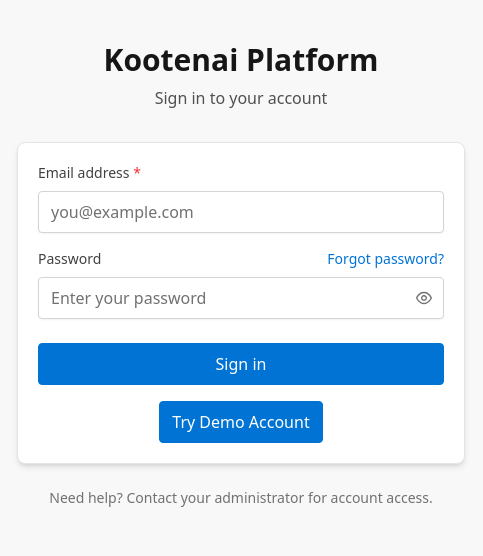
it: LoginView › login flow › should display error message on login failure
Type "user@example.com" into the field with id "email" at (241, 212), box [38,191,444,233]
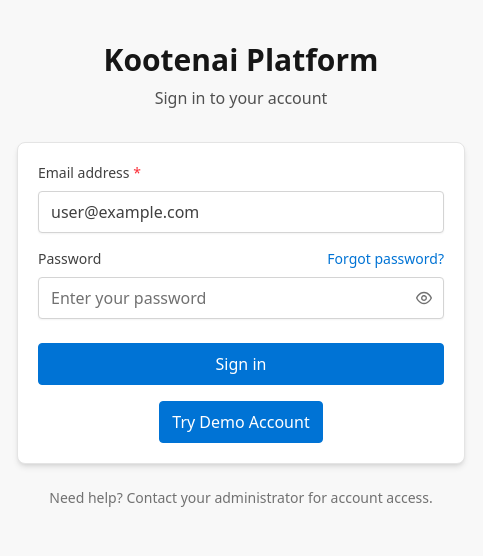
Submit the form, box [38,163,444,443]
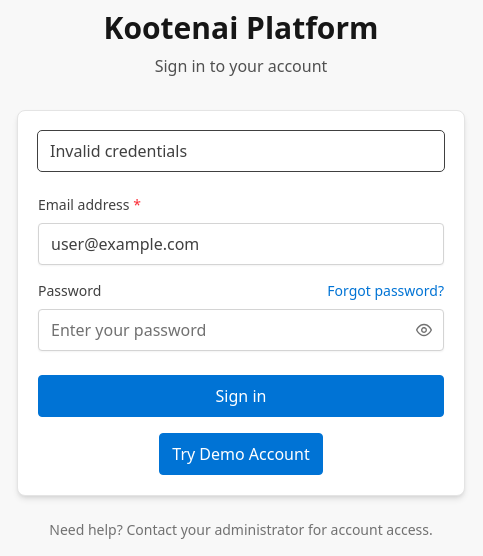
Result: the text "Invalid credentials" is shown at [50,139,187,163]
